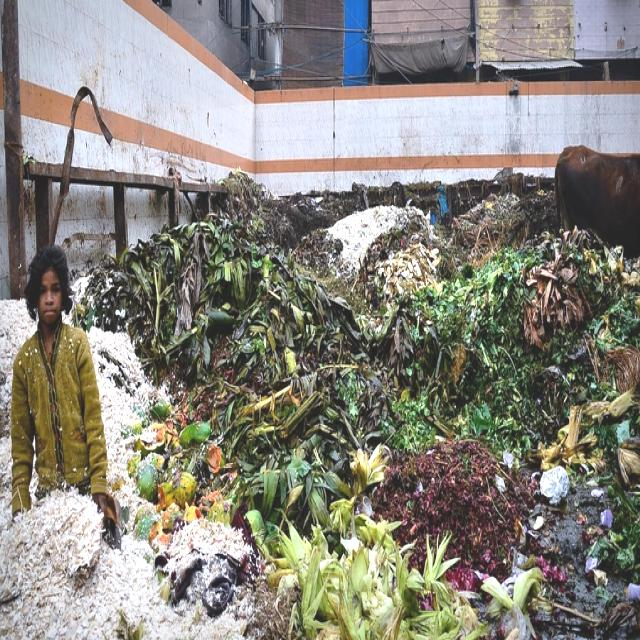wet: (2, 299, 143, 499), (219, 355, 361, 536), (268, 506, 461, 635), (512, 228, 640, 366), (217, 261, 327, 393), (113, 537, 248, 640), (21, 528, 130, 633), (469, 250, 546, 368), (353, 215, 438, 317), (384, 310, 471, 404), (118, 222, 195, 318), (468, 356, 546, 447), (584, 469, 640, 583), (160, 514, 250, 577), (200, 222, 258, 313), (72, 254, 131, 332), (87, 323, 149, 397), (1, 296, 33, 429), (386, 312, 417, 386)
